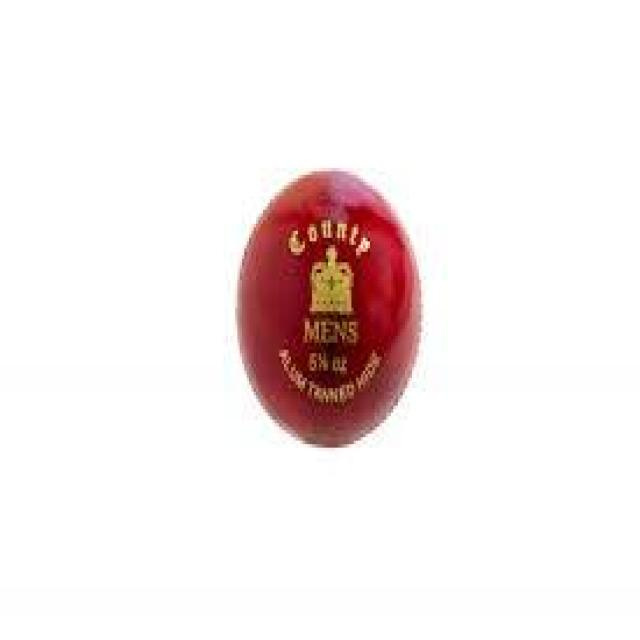ball: (235, 171, 424, 448)
